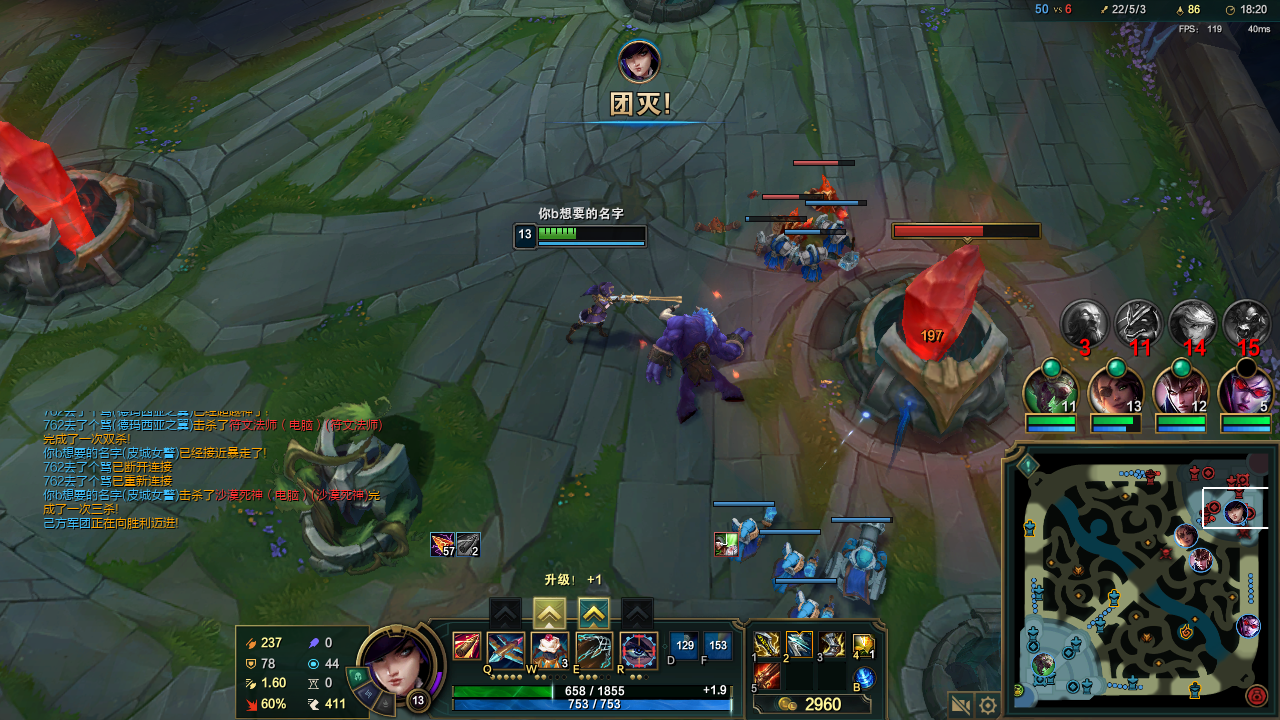DFSJ: (851, 225, 1005, 431)
DFXB: (781, 207, 811, 242), (810, 182, 831, 200)
Shenji: (578, 605, 605, 627)
Tuijianshengji: (540, 603, 561, 625)
WFXB: (835, 533, 892, 602), (771, 543, 810, 584), (795, 243, 835, 280), (820, 217, 856, 255), (792, 596, 839, 621), (753, 234, 784, 266), (739, 518, 760, 547)
